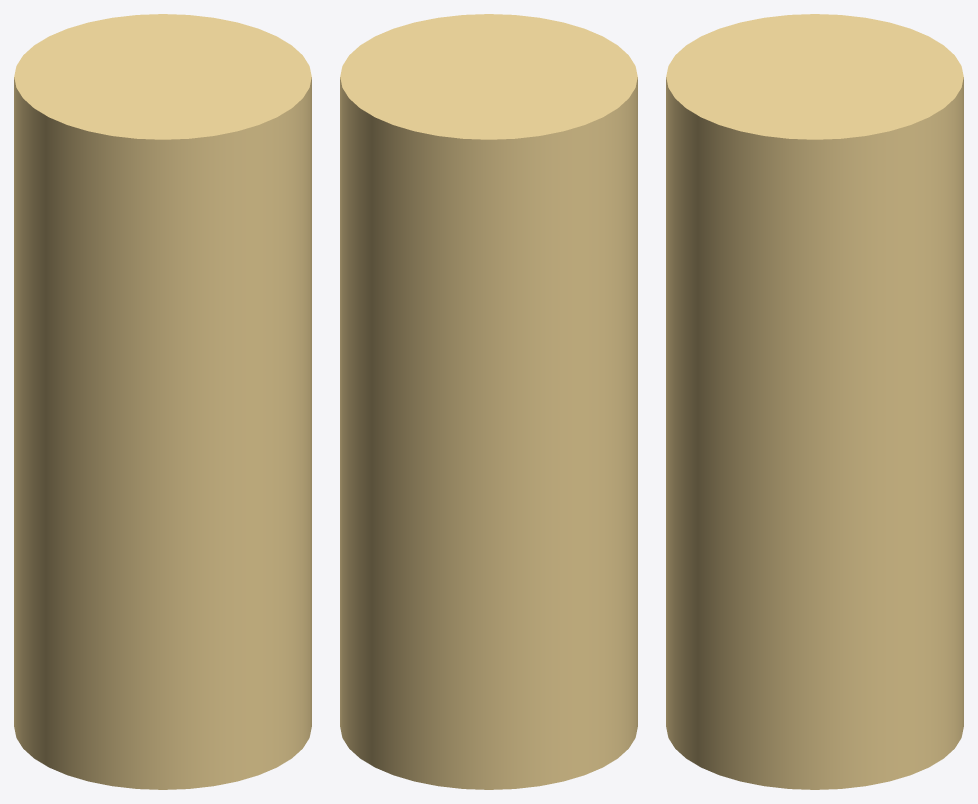
Rendered from cylandar_v2.glb.
The picture shows the model from 3 angles, left to right: view 1: azimuth 30°, elevation 25°; view 2: azimuth 150°, elevation 25°; view 3: azimuth 270°, elevation 25°; orthographic projection.
Parts seen in each view (by area): view 1: Mesh_0.001; view 2: Mesh_0.001; view 3: Mesh_0.001.
Part boxes in pixels (x1=…): Mesh_0.001: x1=14, y1=14, x2=311, y2=789; Mesh_0.001: x1=340, y1=14, x2=637, y2=789; Mesh_0.001: x1=666, y1=14, x2=963, y2=789.
Size of the model in its own units: 1 by 2.41 by 1.
